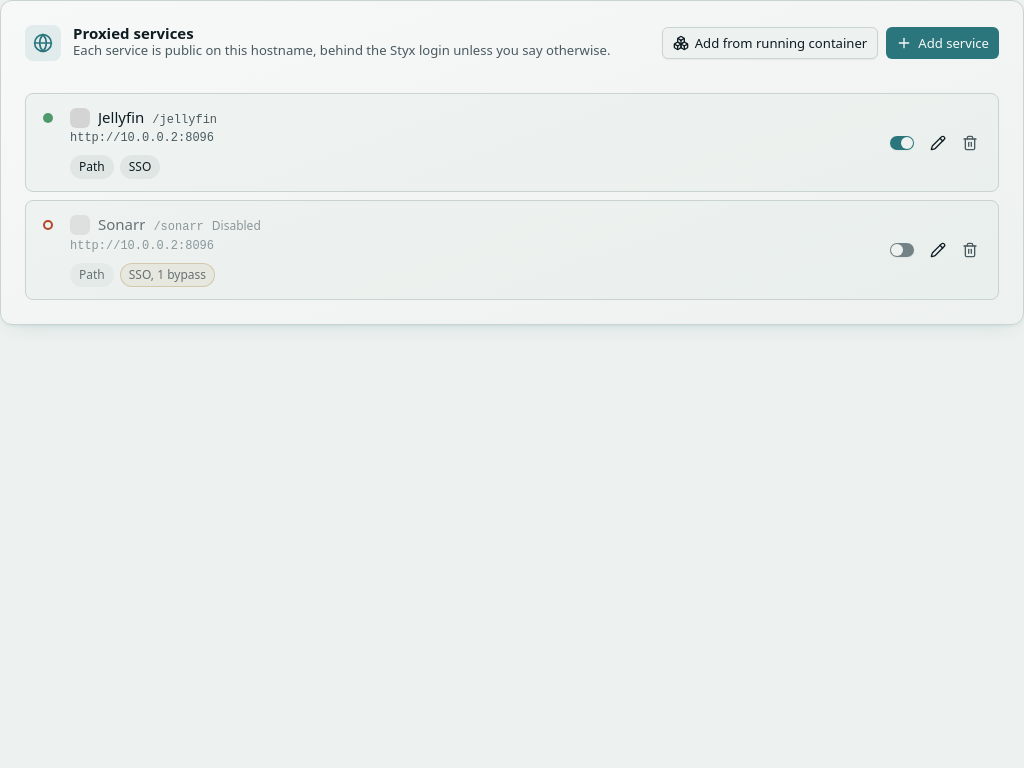
Test: ServicesPanel › create: 409 surfaces next to the slug field, no toast
This screenshot has width=1024, height=768.
Expected: the text "Jellyfin" is shown, [98,106,144,129]
Click the button "Add service": (943, 43) [886,27,999,59]
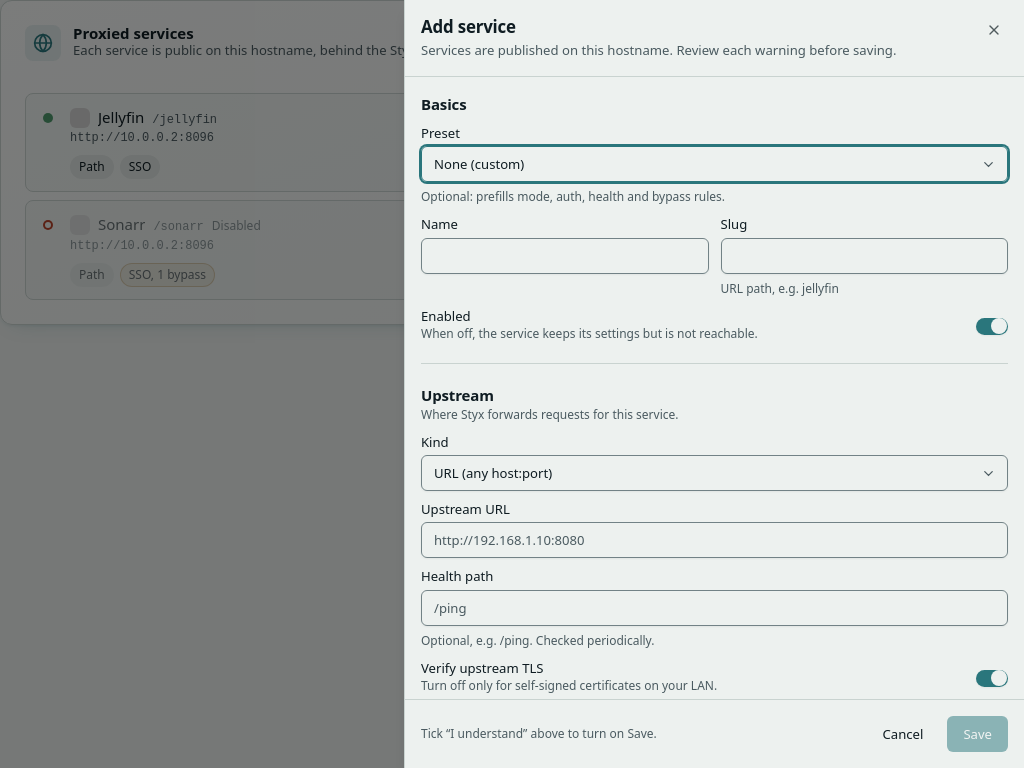
In the field labelled "Slug": (864, 256) [720,238,1008,274], type "dup"
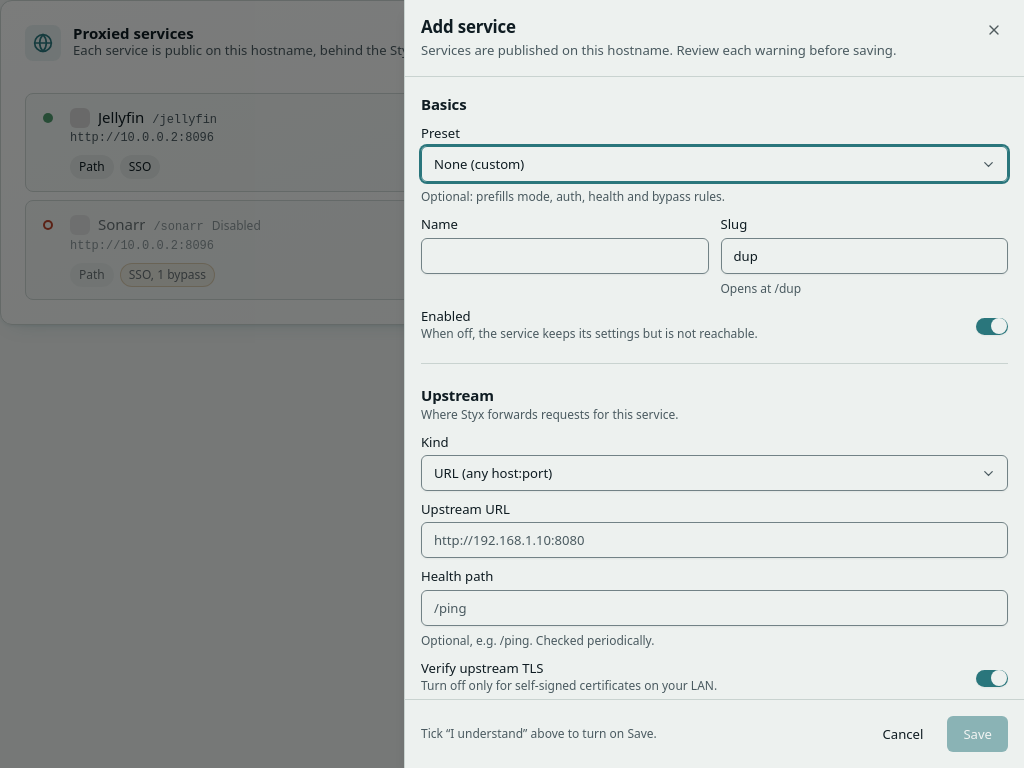
In the field labelled "Name": (565, 256) [421,238,708,274], type "Dup"
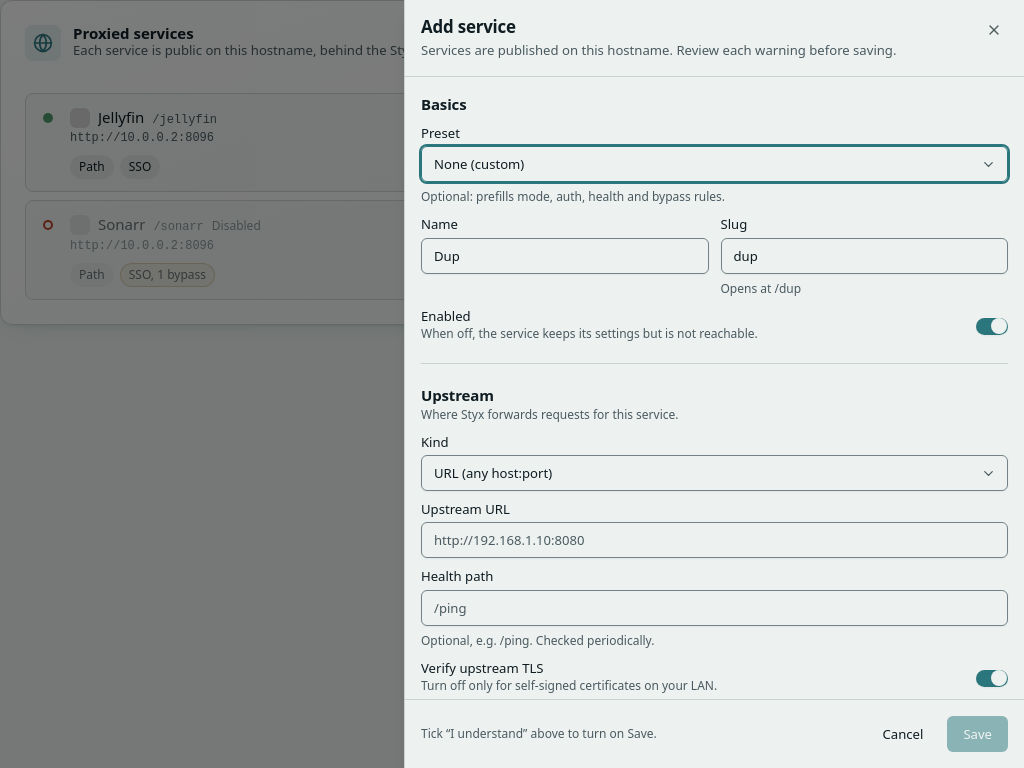
In the field labelled "Upstream URL": (714, 540) [421,522,1008,558], type "http://h:1"
(page scrolled)
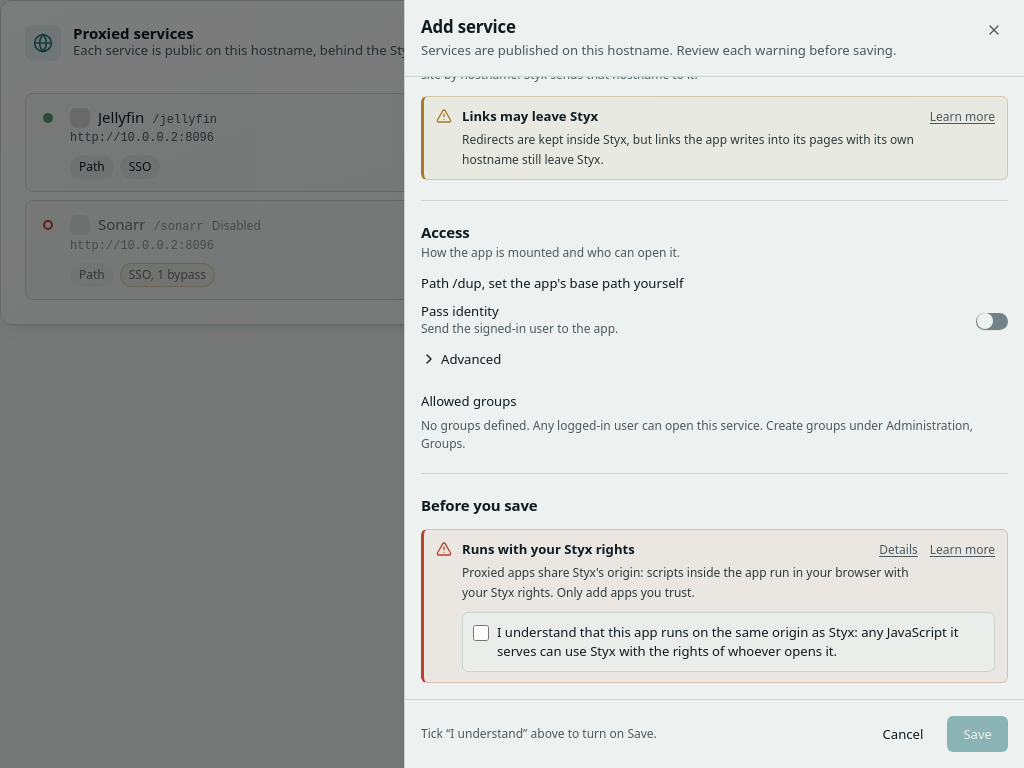
Click the checkbox labelled "I understand that this app runs on the same origin": (481, 633) [473,625,489,641]
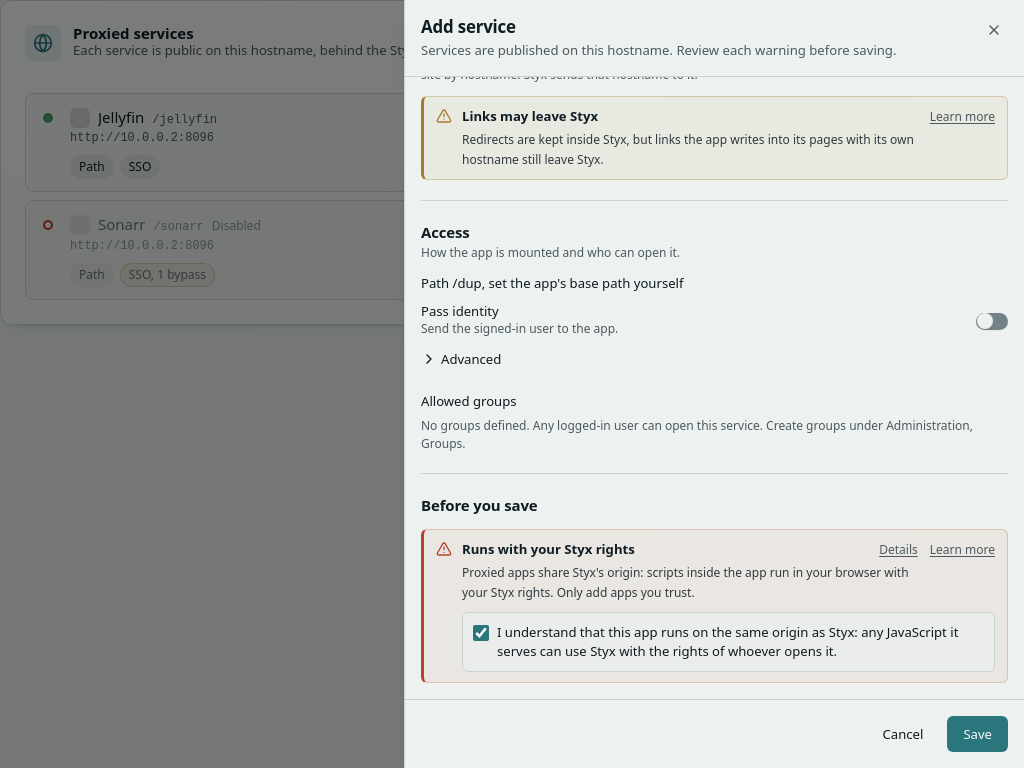
Click the button "Save": (978, 734) [947,716,1008,752]
(page scrolled)
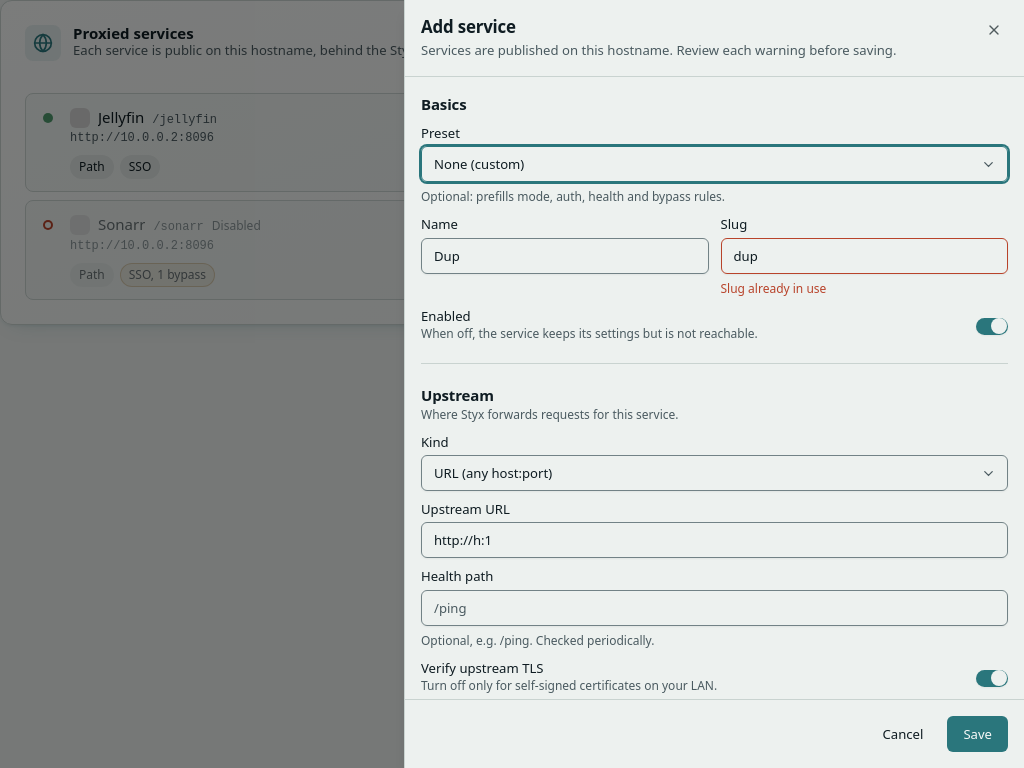
Now the text "Slug already in use" is shown, box [720,280,826,297]
